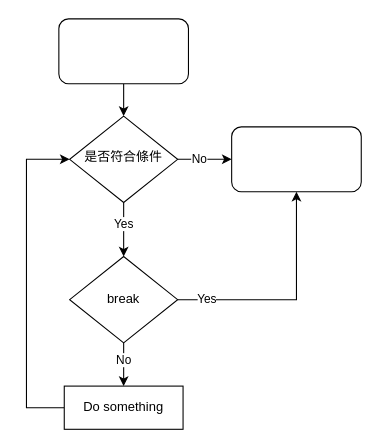
This 380x448 diagram has some shape labels left out. The centre of each missing label's shape, as x and y in pixels:
"結束" belongs at pixel 296 159.
"開始" belongs at pixel 123 51.
